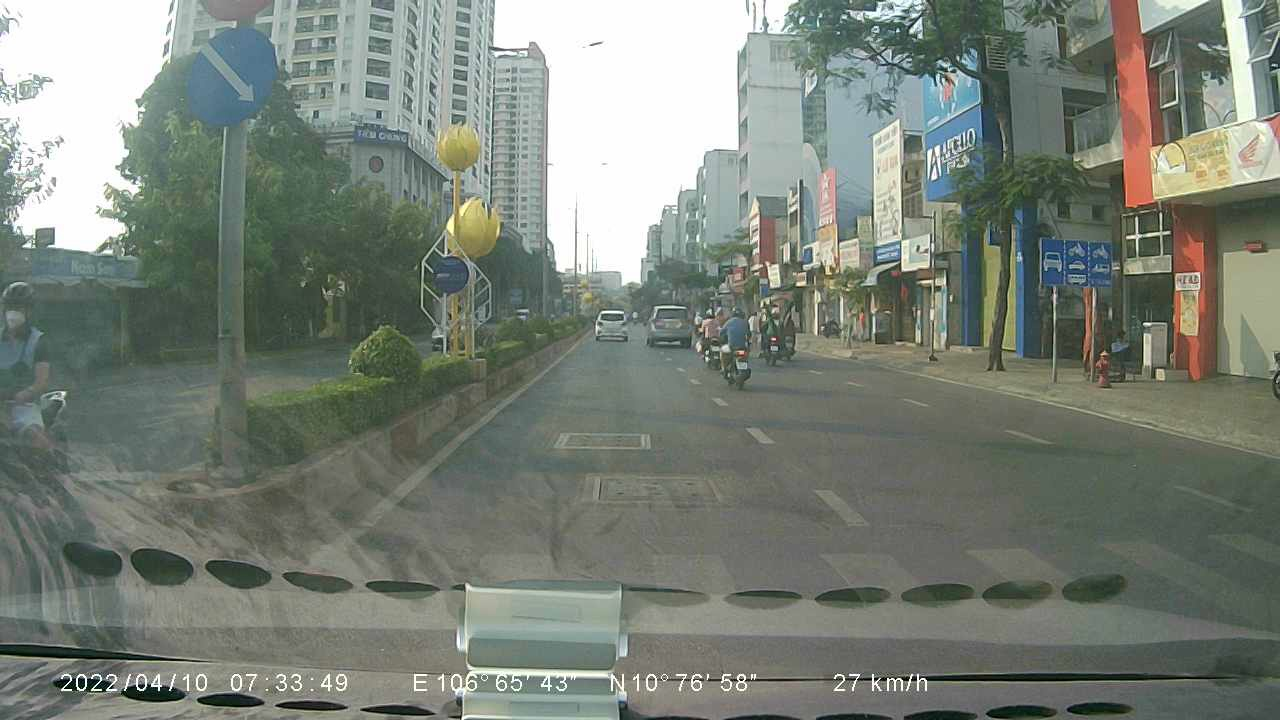Huong di phai re phai: (180, 25, 276, 131)
